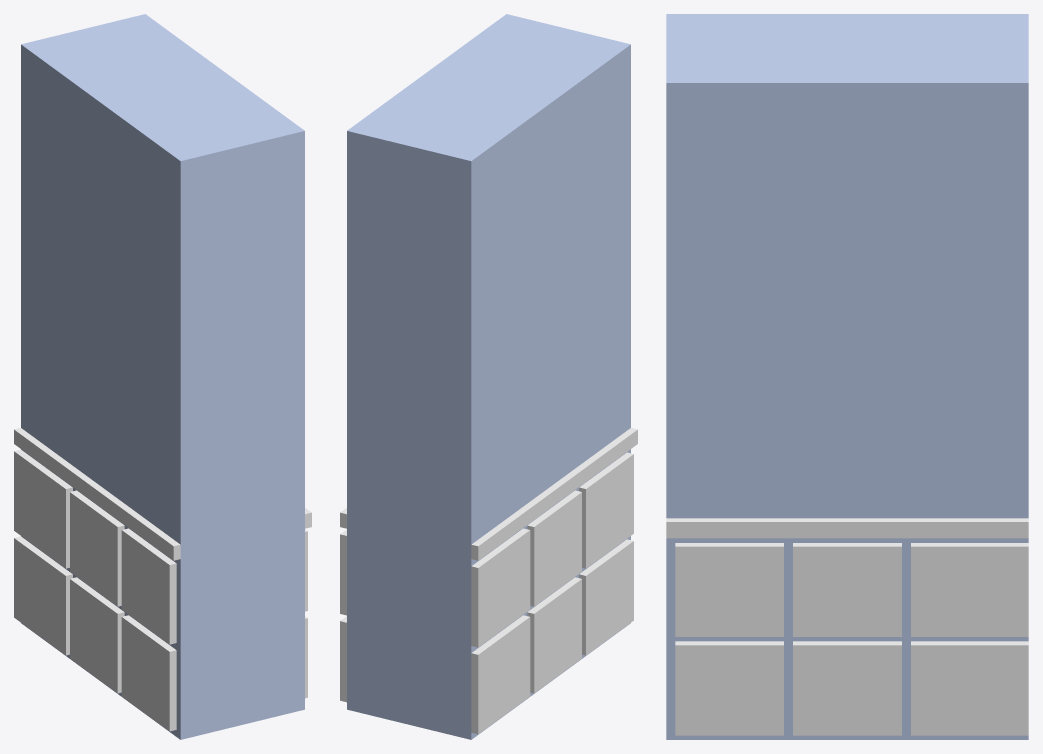
File: wall_clean.obj
3 renders of one model, left to right at view 1: azimuth 30°, elevation 25°; view 2: azimuth 150°, elevation 25°; view 3: azimuth 270°, elevation 25°, orthographic. The views are drawn at different scales.
Visible parts, largest first — view 1: wall_clean; view 2: wall_clean; view 3: wall_clean.
Boxes of the visible parts, <box> form: wall_clean: <box>14,14,311,739</box>; wall_clean: <box>340,14,637,739</box>; wall_clean: <box>666,14,1028,739</box>.
Size of the model in its own units: 20 by 80 by 40.
Materials: 1 (1 with a texture image).
